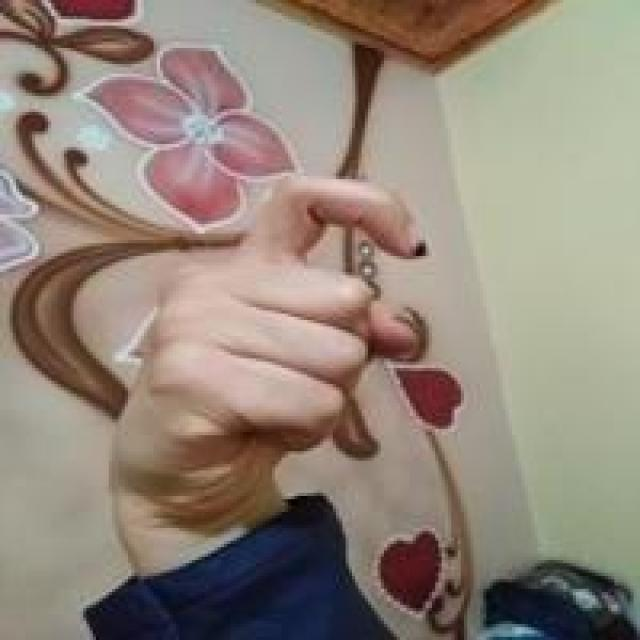X: (117, 172, 437, 554)
